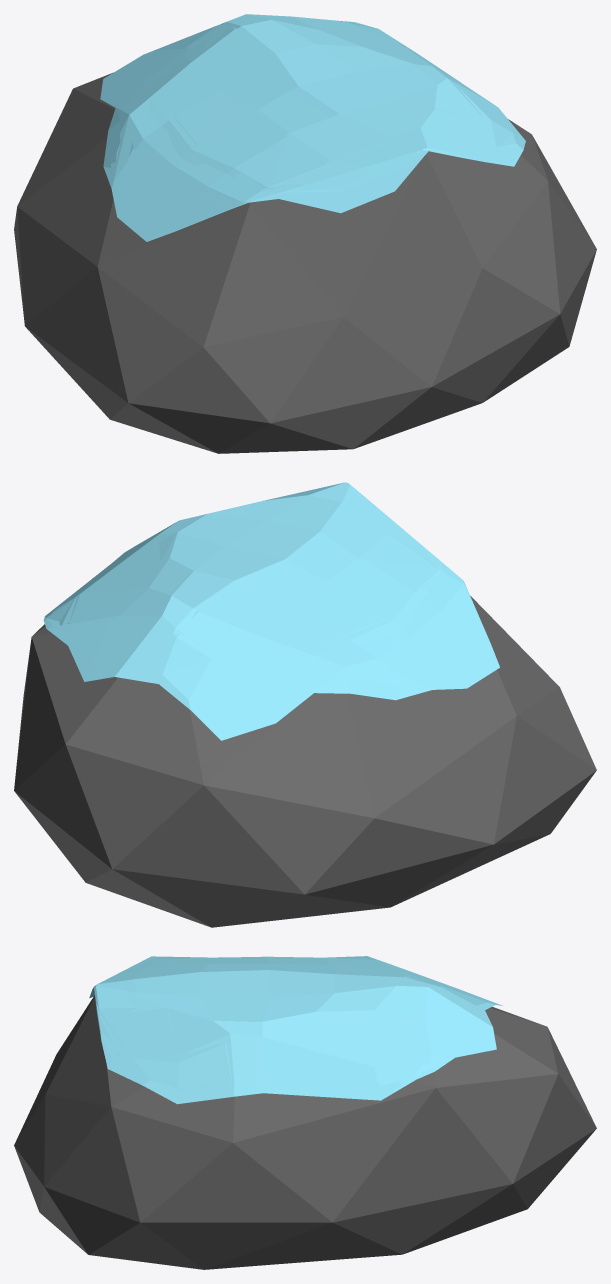
The model's file is Rock_2.fbx.
3 renders of one model, top to bottom at view 1: azimuth 30°, elevation 25°; view 2: azimuth 150°, elevation 25°; view 3: azimuth 270°, elevation 25°, orthographic. The views are drawn at different scales.
Visible parts, largest first — view 1: Rock_2, Snow_2; view 2: Rock_2, Snow_2; view 3: Rock_2, Snow_2.
Part boxes in pixels (bbox=[...]): Rock_2: bbox=[14, 72, 596, 453]; Snow_2: bbox=[100, 14, 525, 241]; Rock_2: bbox=[14, 595, 596, 927]; Snow_2: bbox=[43, 482, 499, 740]; Rock_2: bbox=[14, 995, 596, 1269]; Snow_2: bbox=[89, 956, 502, 1104].
Size of the model in its own units: 304 by 172 by 360.
